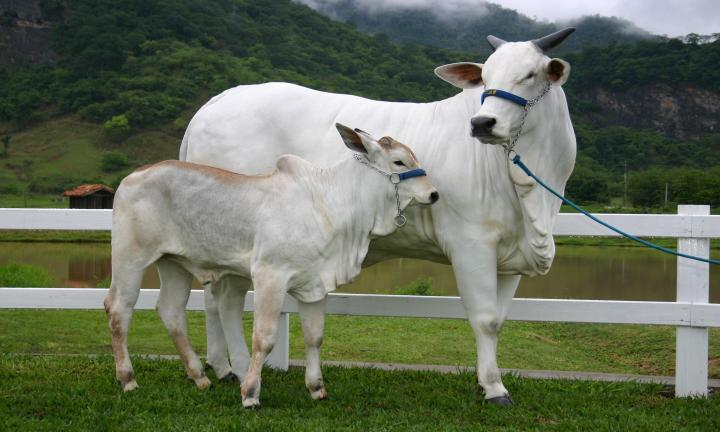Brahman: (180, 28, 576, 405), (104, 124, 438, 409), (205, 276, 250, 378)
